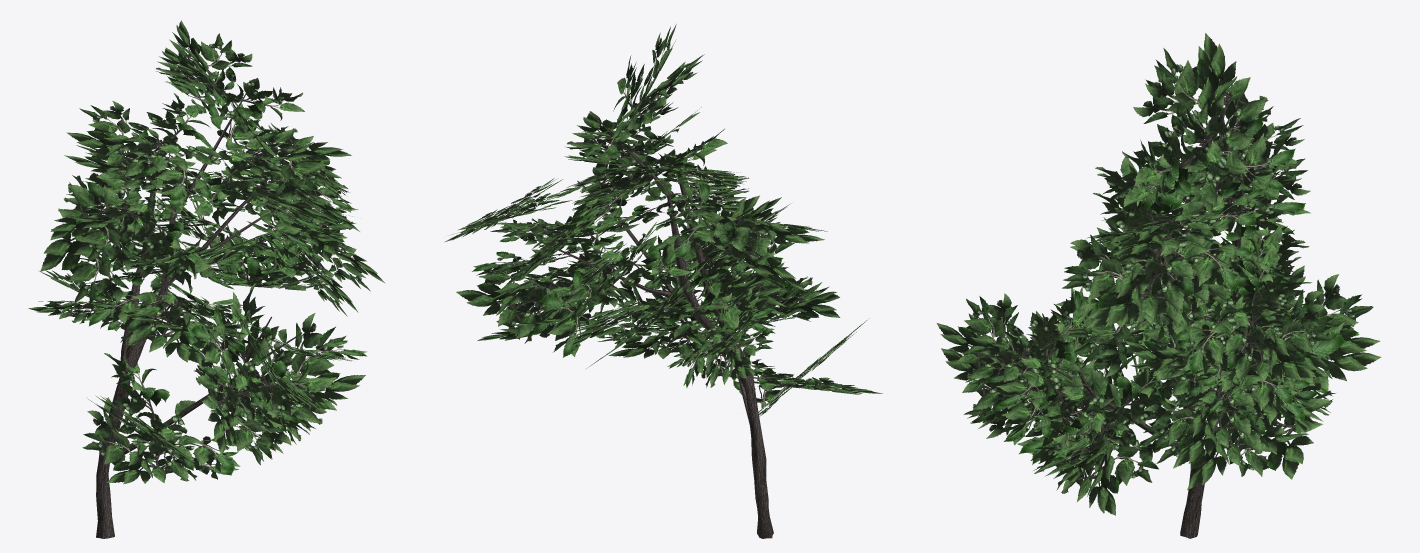
The model's file is shrub_hazel_03.DAE.
The picture shows the model from 3 angles, left to right: view 1: azimuth 30°, elevation 25°; view 2: azimuth 150°, elevation 25°; view 3: azimuth 270°, elevation 25°; orthographic projection. The views are drawn at different scales.
Visible parts, largest first — view 1: shrub_hazel03_CommonHazelLeaves_1, shrub_hazel03_CommonHazelLeaves_002, shrub_hazel03_CommonHazelBark; view 2: shrub_hazel03_CommonHazelLeaves_1, shrub_hazel03_CommonHazelLeaves_002, shrub_hazel03_CommonHazelBark; view 3: shrub_hazel03_CommonHazelLeaves_1, shrub_hazel03_CommonHazelLeaves_002, shrub_hazel03_CommonHazelBark.
Part boxes in pixels (x1,y1,x2,y2): shrub_hazel03_CommonHazelLeaves_1: (28, 20, 384, 484); shrub_hazel03_CommonHazelLeaves_002: (34, 22, 381, 483); shrub_hazel03_CommonHazelBark: (96, 93, 301, 538); shrub_hazel03_CommonHazelLeaves_1: (444, 24, 882, 418); shrub_hazel03_CommonHazelLeaves_002: (446, 39, 878, 414); shrub_hazel03_CommonHazelBark: (536, 111, 773, 538); shrub_hazel03_CommonHazelLeaves_1: (936, 33, 1381, 515); shrub_hazel03_CommonHazelLeaves_002: (937, 34, 1378, 514); shrub_hazel03_CommonHazelBark: (1052, 174, 1243, 538).
Bounding box in the file's own units: 0.9458 × 1.22 × 0.9328.
